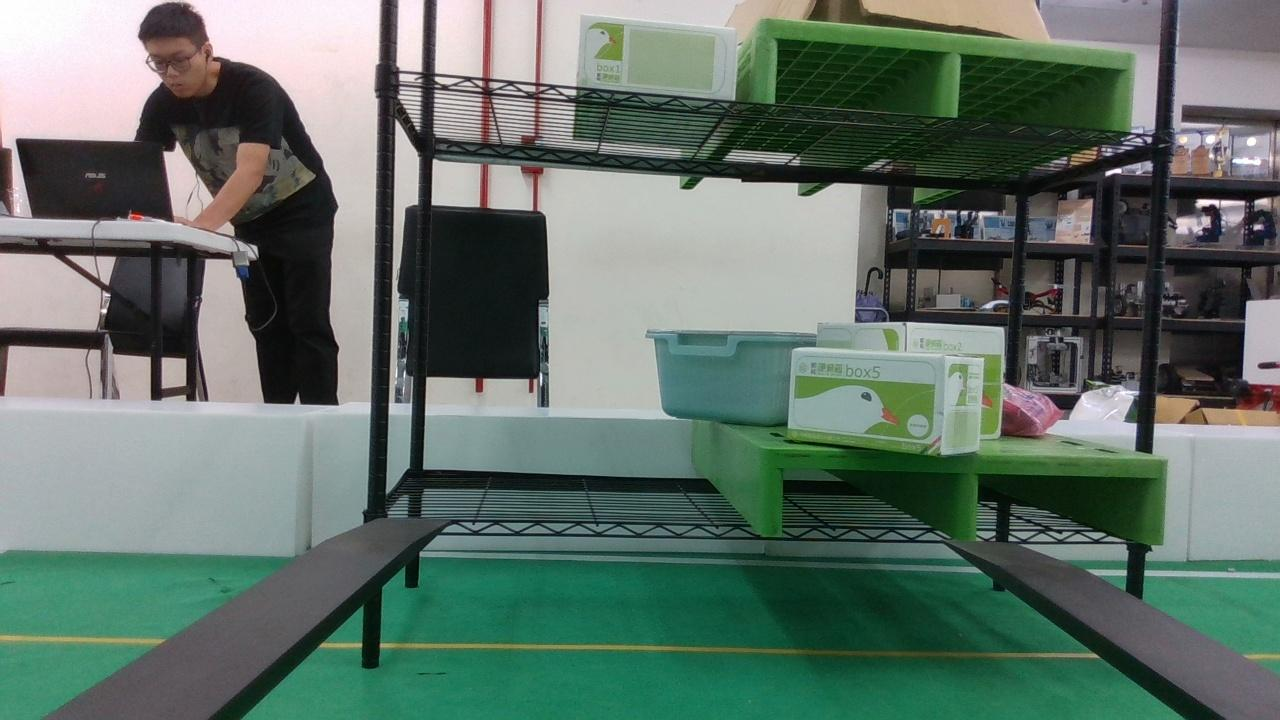Pallet: (753, 16, 1137, 135), (760, 447, 1165, 546)
